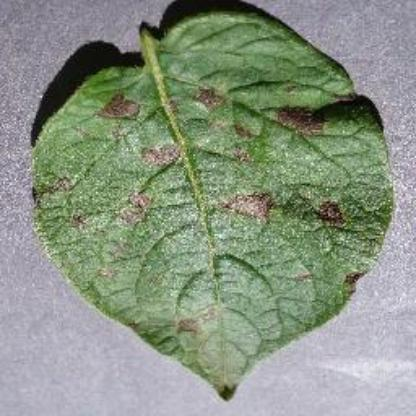Early-Blight: (28, 13, 396, 401)
